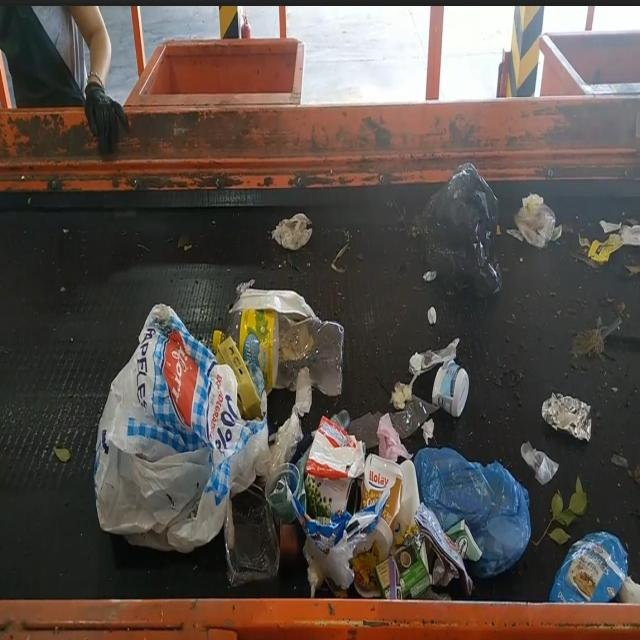bottle: (223, 307, 353, 401)
